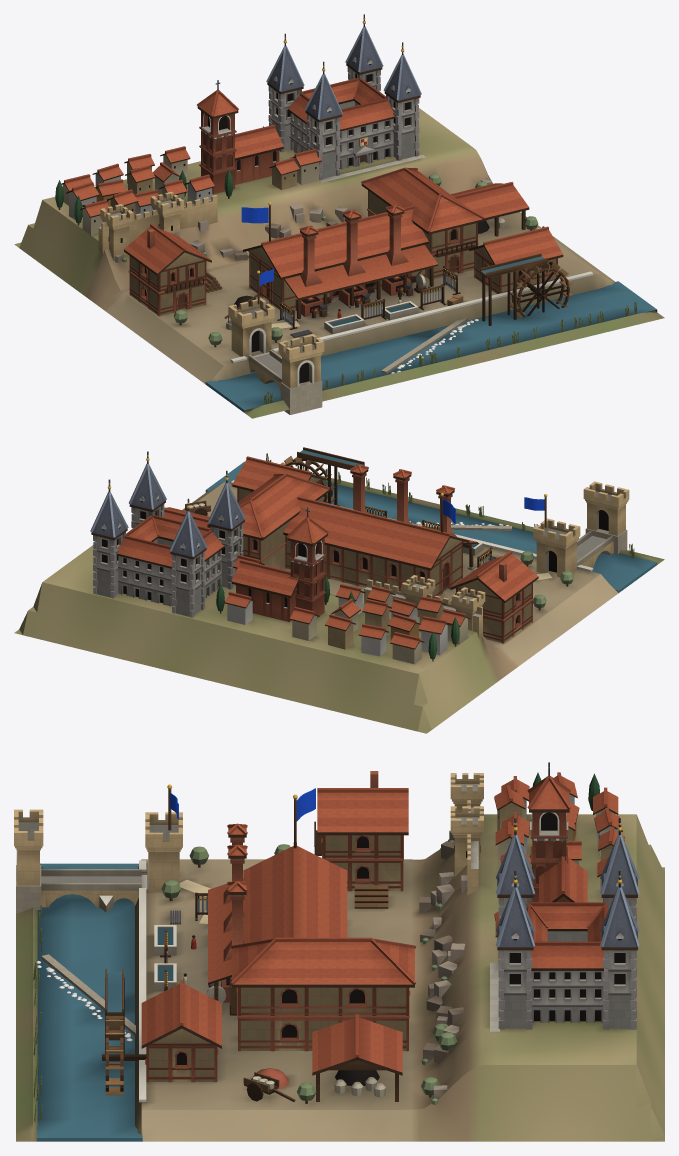
File: lm_toledo.glb
3 renders of one model, top to bottom at view 1: azimuth 30°, elevation 25°; view 2: azimuth 150°, elevation 25°; view 3: azimuth 270°, elevation 25°, orthographic. The views are drawn at different scales.
Visible parts, largest first — view 1: lm_toledo; view 2: lm_toledo; view 3: lm_toledo.
Part boxes in pixels (left/top/right/bottom): lm_toledo: left=14, top=14, right=664, bottom=418; lm_toledo: left=14, top=447, right=664, bottom=733; lm_toledo: left=14, top=762, right=664, bottom=1141.
Bounding box in the file's own units: 2.3 × 0.9159 × 2.31.
1 material, 1 textured.
